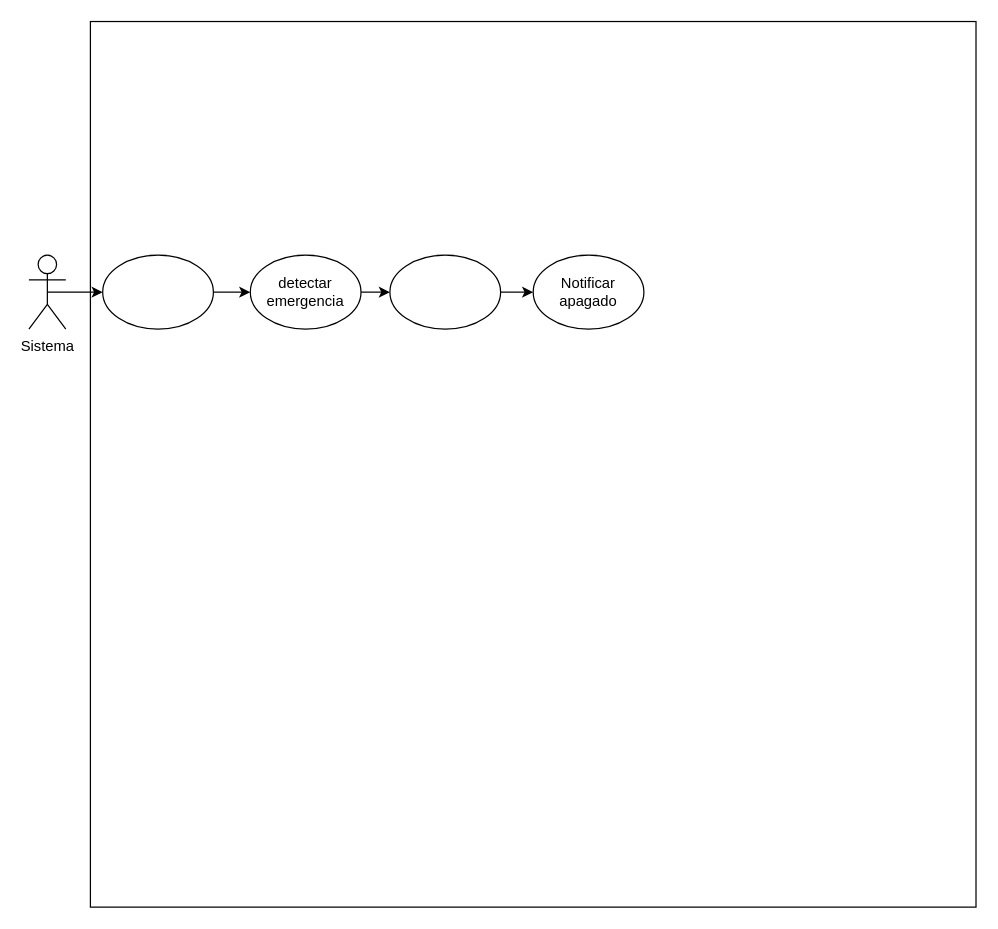
Some shapes in this 998 by 929 pixel diagram are drawn without their labels. Here are the shapes that lost their labels. From the top down, the box of each, then its label:
(101, 254, 213, 329): Monitorear estado modulo
(389, 254, 501, 329): detener funcionamiento modulo
